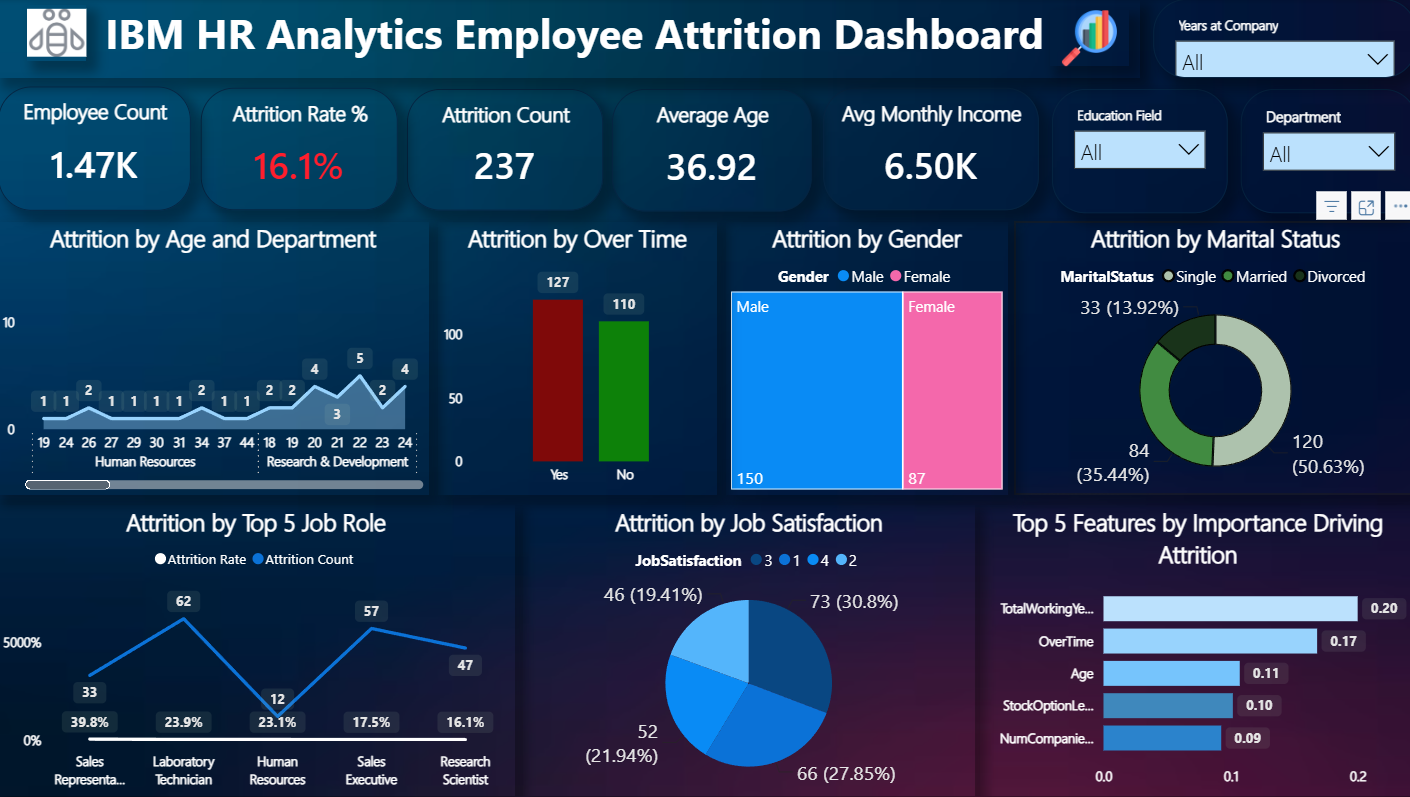

This screenshot's page, from the dashboard's own definition file:
{"tool":"powerbi","page":{"name":"Dashboard","canvas":[1280,720],"ordinal":0},"visuals":[{"type":"cardVisual","title":"Attrition Count","fields":{"Data":["hr_attrition_cleaned_for_powerbi.Attrition Count"]},"box":[369.8,81.4,176.7,109.3],"z":0},{"type":"cardVisual","title":"Average Age","fields":{"Data":["Avg(hr_attrition_cleaned_for_powerbi.Age)"]},"box":[554.7,81.4,180.2,110.5],"z":1000},{"type":"cardVisual","title":"Avg Monthly Income","fields":{"Data":["Avg(hr_attrition_cleaned_for_powerbi.MonthlyIncome)"]},"box":[745.4,80.2,194.2,110.5],"z":2000},{"type":"lineChart","title":"Attrition by Age and Department","fields":{"Category":["hr_attrition_cleaned_for_powerbi.Department","hr_attrition_cleaned_for_powerbi.Age"],"Y":["hr_attrition_cleaned_for_powerbi.Attrition Count"]},"box":[0,201.2,389.5,246.5],"z":3000},{"type":"clusteredBarChart","title":"Top 5 Features by Importance Driving Attrition","fields":{"Category":["feature_importance.feature"],"Y":["Sum(feature_importance.importance)"]},"box":[886,457,394.2,262.8],"z":4000},{"type":"textbox","box":[0,0,1030.2,70.9],"z":5000},{"type":"slicer","fields":{"Values":["hr_attrition_cleaned_for_powerbi.Department"]},"box":[1120.9,81.4,159.3,111.6],"z":6000},{"type":"donutChart","title":"Attrition by Marital Status","fields":{"Category":["hr_attrition_cleaned_for_powerbi.MaritalStatus"],"Y":["hr_attrition_cleaned_for_powerbi.Attrition Count"]},"box":[917.4,201.2,362.8,246.5],"z":7000},{"type":"treemap","title":"Attrition by Gender","fields":{"Group":["hr_attrition_cleaned_for_powerbi.Gender"],"Values":["hr_attrition_cleaned_for_powerbi.Attrition Count"]},"box":[657,201.2,254.7,246.5],"z":8000},{"type":"donutChart","title":"Attrition by Job Satisfaction ","fields":{"Category":["hr_attrition_cleaned_for_powerbi.JobSatisfaction"],"Y":["hr_attrition_cleaned_for_powerbi.Attrition Count"]},"box":[474.4,457,407,262.8],"z":9000},{"type":"cardVisual","title":"Attrition Rate %","fields":{"Data":["hr_attrition_cleaned_for_powerbi.Attrition Rate"]},"box":[183.7,80.2,177.9,110.5],"z":10000},{"type":"image","box":[948.8,10.5,72.1,50],"z":11000},{"type":"cardVisual","title":"Employee Count","fields":{"Data":["CountNonNull(hr_attrition_cleaned_for_powerbi.EmployeeCount)"]},"box":[1.2,79.1,173.3,111.6],"z":12000},{"type":"lineChart","title":"Attrition by Top 5 Job Role","fields":{"Y":["hr_attrition_cleaned_for_powerbi.Attrition Rate","hr_attrition_cleaned_for_powerbi.Attrition Count"],"Category":["hr_attrition_cleaned_for_powerbi.JobRole"]},"box":[0,457,467.4,262.8],"z":13000},{"type":"image","box":[26.7,5.8,53.5,50],"z":14000},{"type":"slicer","fields":{"Values":["hr_attrition_cleaned_for_powerbi.EducationField"]},"box":[951.2,81.4,158.1,111.6],"z":15000},{"type":"slicer","title":"Years of Working","fields":{"Values":["hr_attrition_cleaned_for_powerbi.YearsAtCompany"]},"box":[1043,0,237.2,70.9],"z":16000},{"type":"columnChart","title":"Attrition by Over Time","fields":{"Category":["hr_attrition_cleaned_for_powerbi.OverTime"],"Y":["hr_attrition_cleaned_for_powerbi.Attrition Count"]},"box":[397.7,201.2,251.2,246.5],"z":16001}]}

Visuals, with their boxes in screenshot pixels (x1, y1, x2, y2), scaled from the page's 1280x720 canvas onto the 1410x797 screenshot:
"Attrition Count" cardVisual: 407:90:602:211
"Average Age" cardVisual: 611:90:810:212
"Avg Monthly Income" cardVisual: 821:89:1035:211
"Attrition by Age and Department" lineChart: 0:223:429:496
"Top 5 Features by Importance Driving Attrition" clusteredBarChart: 976:506:1409:796
textbox: 0:0:1135:78
slicer - hr_attrition_cleaned_for_powerbi.Department: 1235:90:1409:214
"Attrition by Marital Status" donutChart: 1011:223:1409:496
"Attrition by Gender" treemap: 724:223:1004:496
"Attrition by Job Satisfaction " donutChart: 523:506:971:796
"Attrition Rate %" cardVisual: 202:89:398:211
image: 1045:12:1125:67
"Employee Count" cardVisual: 1:88:192:211
"Attrition by Top 5 Job Role" lineChart: 0:506:515:796
image: 29:6:88:62
slicer - hr_attrition_cleaned_for_powerbi.EducationField: 1048:90:1222:214
"Years of Working" slicer: 1149:0:1409:78
"Attrition by Over Time" columnChart: 438:223:715:496
